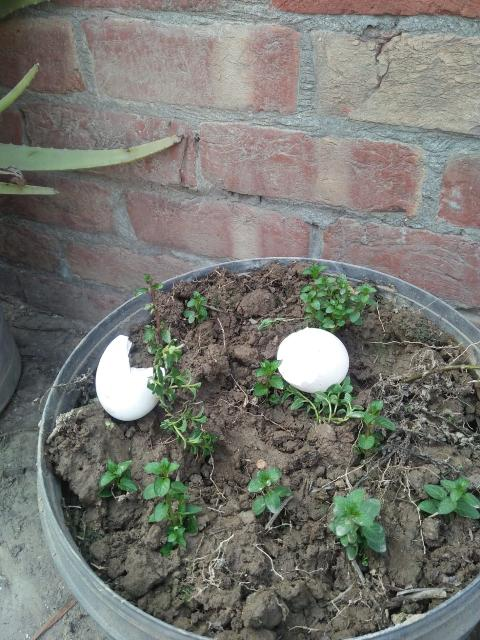Roto: (95, 333, 165, 422), (275, 326, 350, 394)
